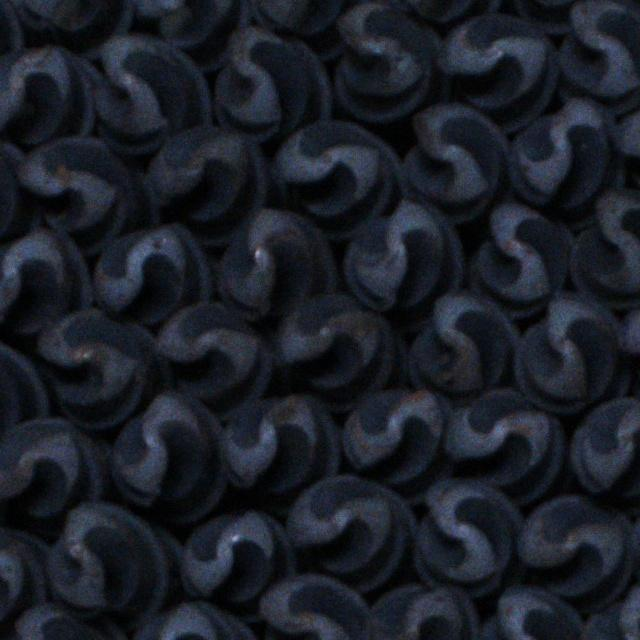tool_b: (47, 504, 185, 624), (31, 310, 170, 428), (17, 139, 158, 255), (506, 95, 626, 228), (270, 123, 405, 241), (346, 203, 467, 333), (108, 390, 227, 521), (273, 296, 408, 411), (286, 473, 418, 590), (143, 127, 269, 247), (513, 292, 633, 414), (512, 496, 636, 614), (334, 1, 453, 123), (443, 388, 566, 506), (436, 14, 558, 132), (90, 33, 210, 152), (210, 26, 330, 141), (155, 302, 274, 417), (218, 396, 339, 508), (413, 480, 525, 600), (216, 211, 336, 321), (402, 104, 511, 222), (342, 388, 454, 502), (181, 510, 298, 616), (408, 292, 520, 401), (90, 223, 212, 323), (469, 202, 576, 314), (0, 416, 108, 518), (0, 230, 91, 338), (0, 45, 98, 144), (556, 2, 640, 114), (569, 186, 640, 307), (129, 0, 251, 69), (571, 396, 640, 511), (246, 0, 379, 59), (258, 574, 374, 640), (2, 0, 133, 57), (363, 585, 480, 640), (480, 587, 587, 640), (0, 526, 50, 634), (0, 335, 48, 446), (129, 602, 263, 640), (1, 604, 131, 640), (0, 135, 38, 253), (500, 0, 624, 32), (580, 583, 640, 640), (614, 83, 640, 209), (618, 282, 640, 411), (371, 0, 502, 21), (0, 0, 24, 76)
